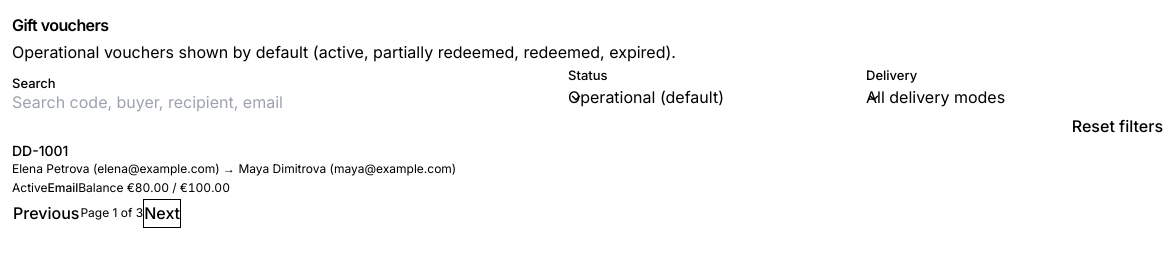
Test case: OpsGiftVouchers collection migration › keeps pagination URL behavior and disables Previous on page 1
The image size is (1176, 272).
Expected: the text "Page 1 of 3" is shown, [80,205,143,221]
Expected: the button "Previous" is disabled, [12,199,80,228]
What coordinates should you click on to do the following:
click the button "Next"
I would click on:
 (162, 213)
Its box is [143,199,181,228].
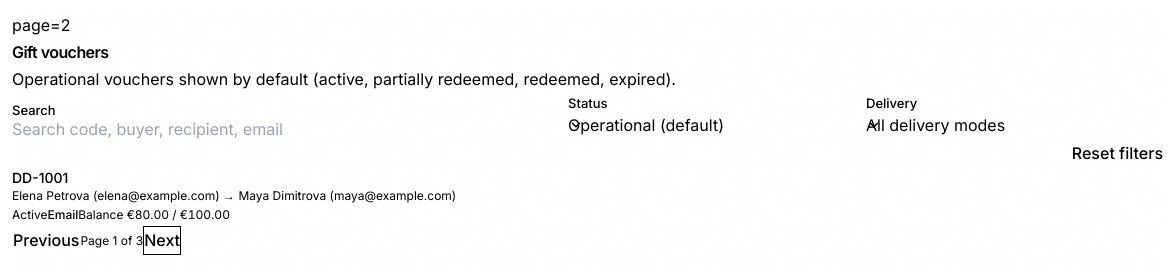
Expected: the text with test id "gv-search" reads "page=2", [12,15,70,35]
